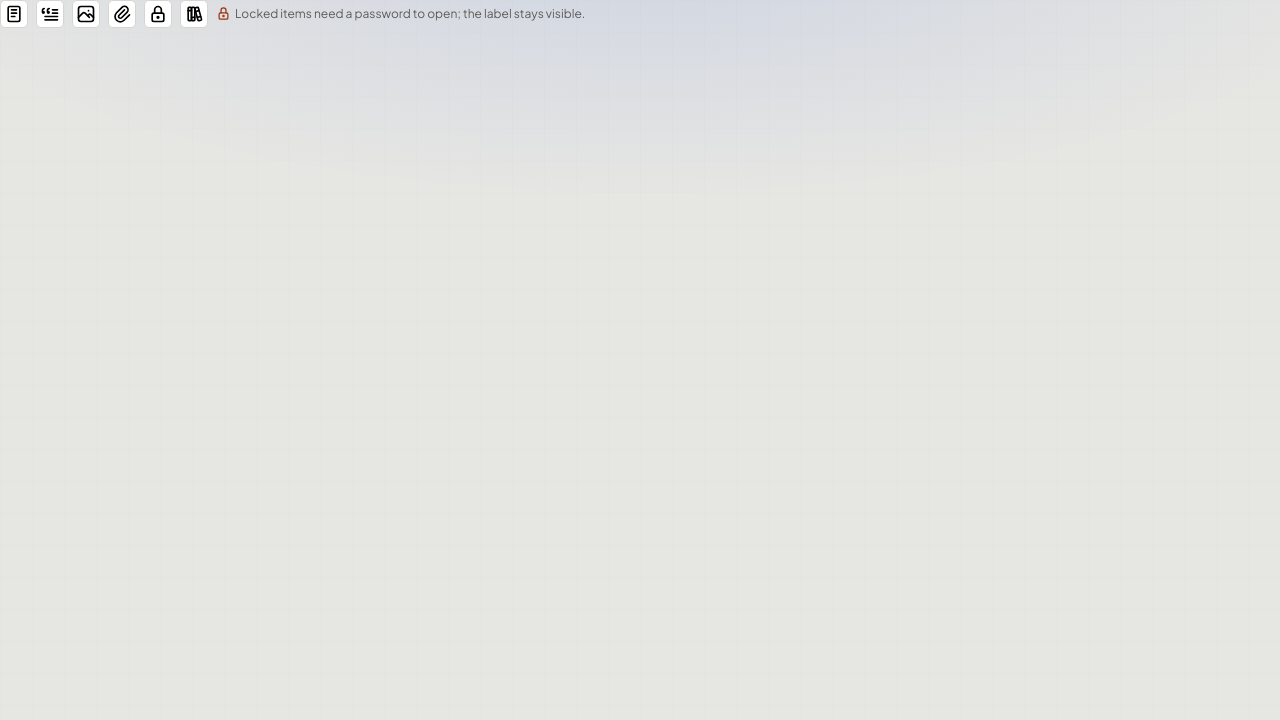
AddItemBar — the from-library sheet (PLAN.md §9, §16 Phase 5, D8) › closes the sheet from Done
Click the button named "Send from library": [194, 14] box [180,0,208,28]
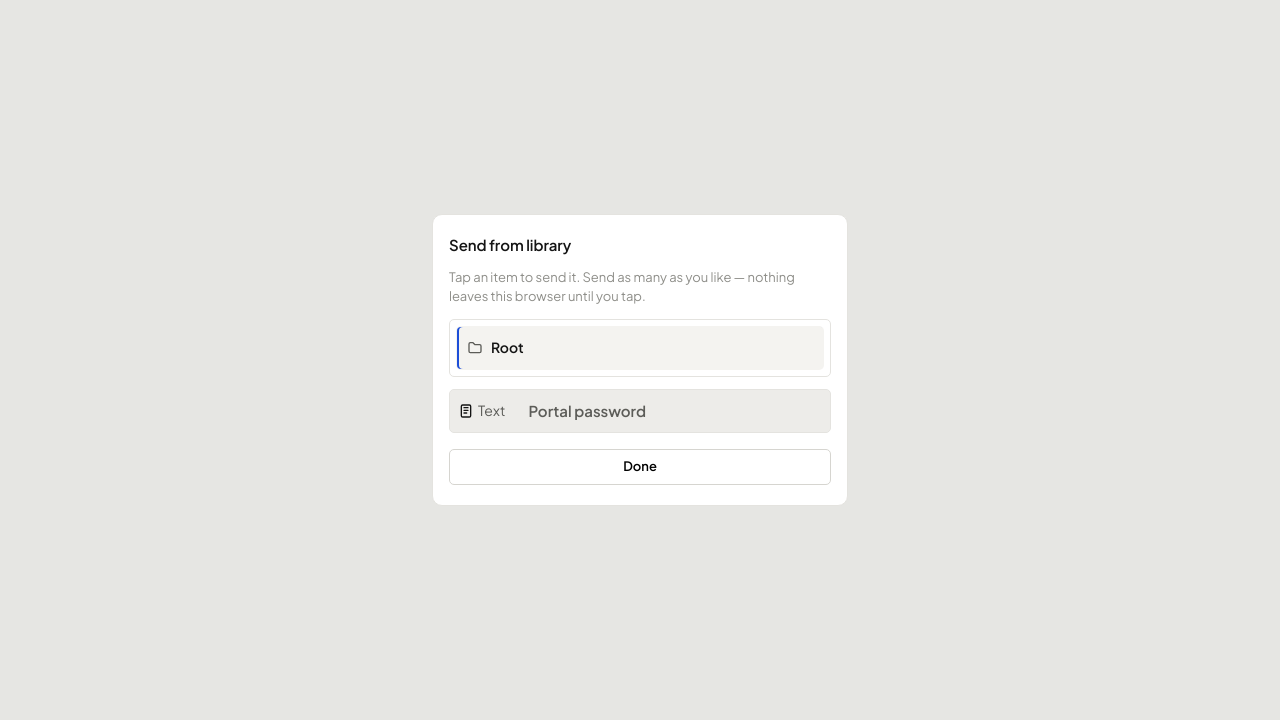
Click the button with class "library-modal__done": [640, 467] box [449,449,831,485]
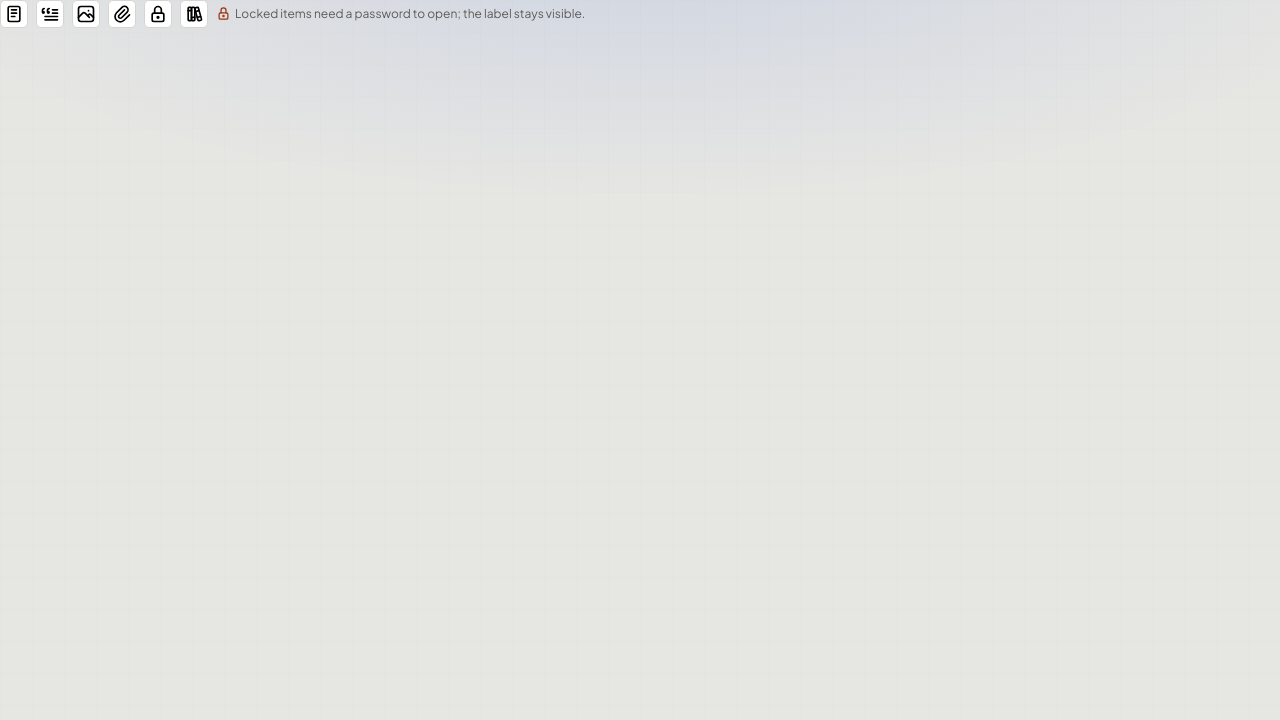
Check: the dialog with class "library-modal--send" is gone
